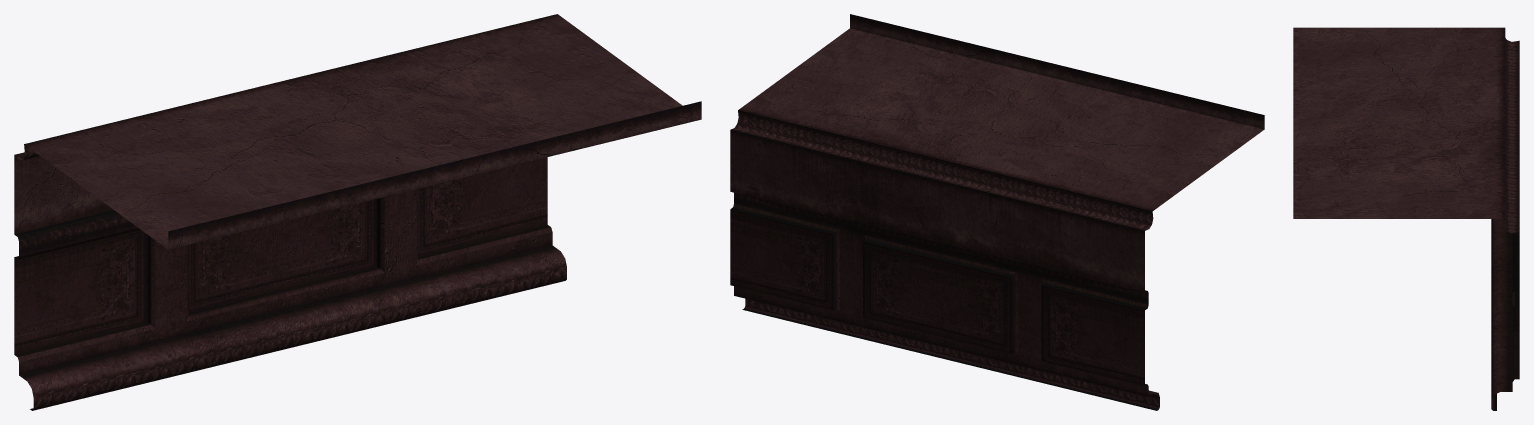
Rendered from 42_concave02.dae.
3 views of the same model, side by side, from view 1: azimuth 30°, elevation 25°; view 2: azimuth 150°, elevation 25°; view 3: azimuth 270°, elevation 25° (orthographic). The views are drawn at different scales.
Visible parts, largest first — view 1: concave; view 2: concave; view 3: concave.
Part boxes in pixels (<box>): concave: <box>14,14,701,410</box>; concave: <box>730,14,1264,410</box>; concave: <box>1293,27,1519,410</box>.
Size of the model in its own units: 4 by 2 by 2.
